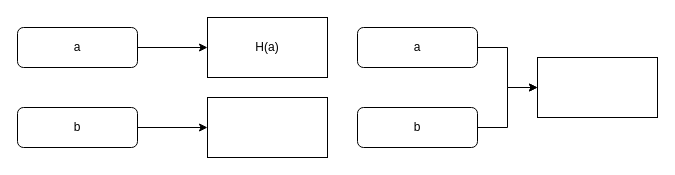
The diagram is 675 pixels wide and 175 high, and some of its shapes have lost their labels. The shapes that lost their labels are listed below. From the top down, each one's centre as x and y in pixels, then its label:
the point at 597,87: H(a) = H(b)
the point at 267,127: H(b)
